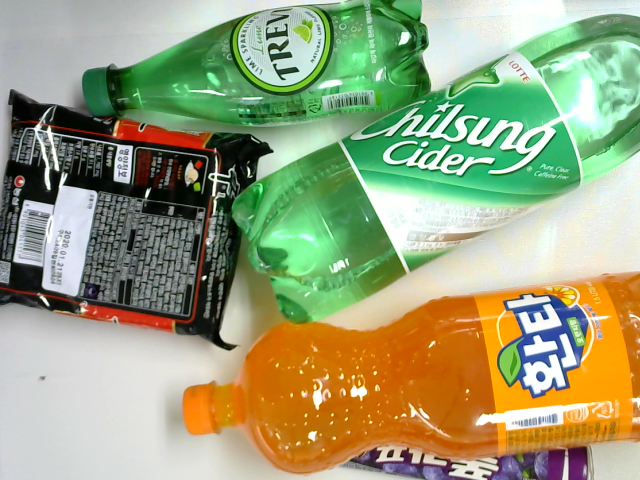Chilseong_Cider_1.5L: (226, 5, 640, 324)
Hwanta_Orange_1.5L: (177, 263, 640, 476)
Polapo_Grape: (335, 432, 600, 480)
Sinramen_Black: (1, 78, 279, 354)
Treviraim_500ml: (77, 1, 439, 133)
